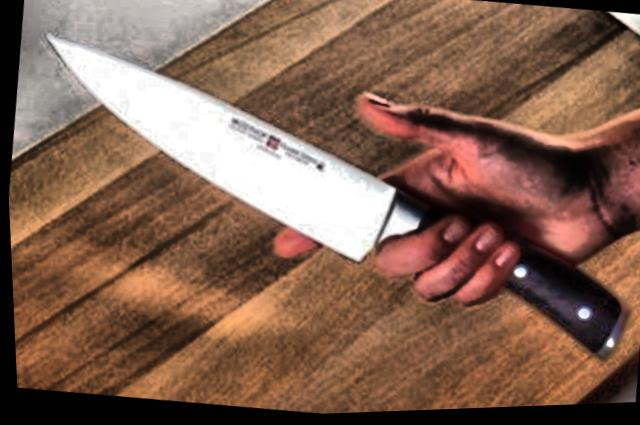knife: (9, 11, 458, 315)
